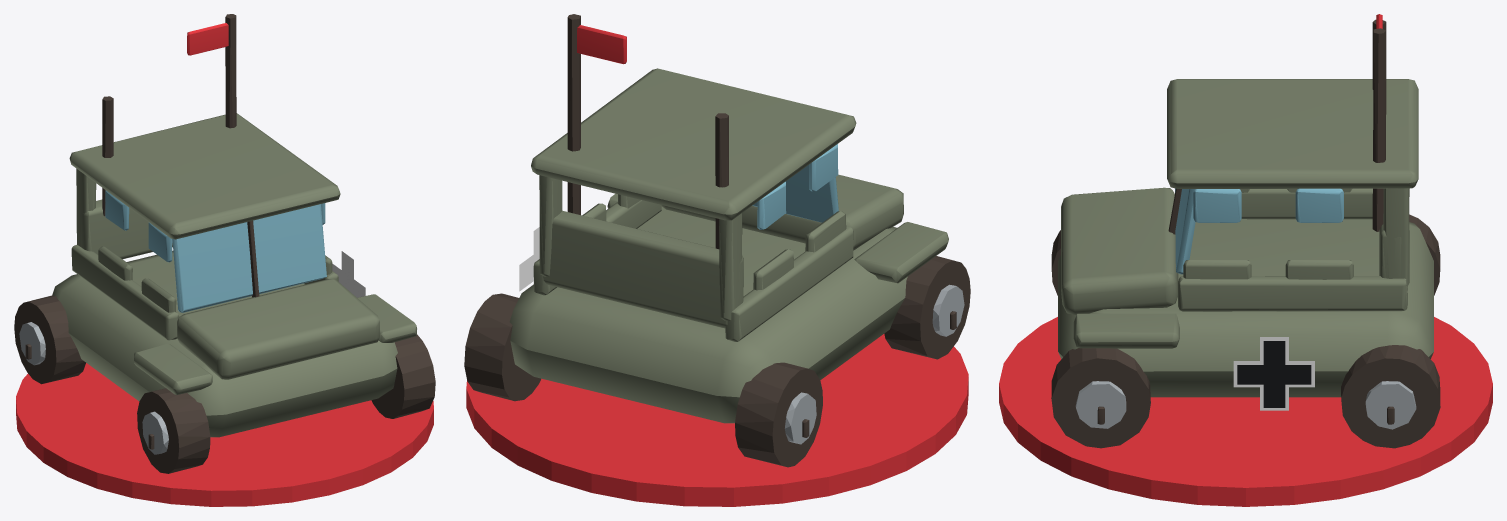
File: germany_commander_lod0.glb
3 renders of one model, left to right at view 1: azimuth 30°, elevation 25°; view 2: azimuth 150°, elevation 25°; view 3: azimuth 270°, elevation 25°, orthographic. The views are drawn at different scales.
Visible parts, largest first — view 1: body_hull, base_pedestal; view 2: body_hull, base_pedestal; view 3: body_hull, base_pedestal.
Boxes of the visible parts, <box> form: body_hull: <box>14,14,435,473</box>; base_pedestal: <box>16,363,433,506</box>; body_hull: <box>464,14,970,467</box>; base_pedestal: <box>466,334,968,506</box>; body_hull: <box>1051,14,1440,448</box>; base_pedestal: <box>999,317,1492,506</box>.
Size of the model in its own units: 0.78 by 0.7101 by 0.78.
